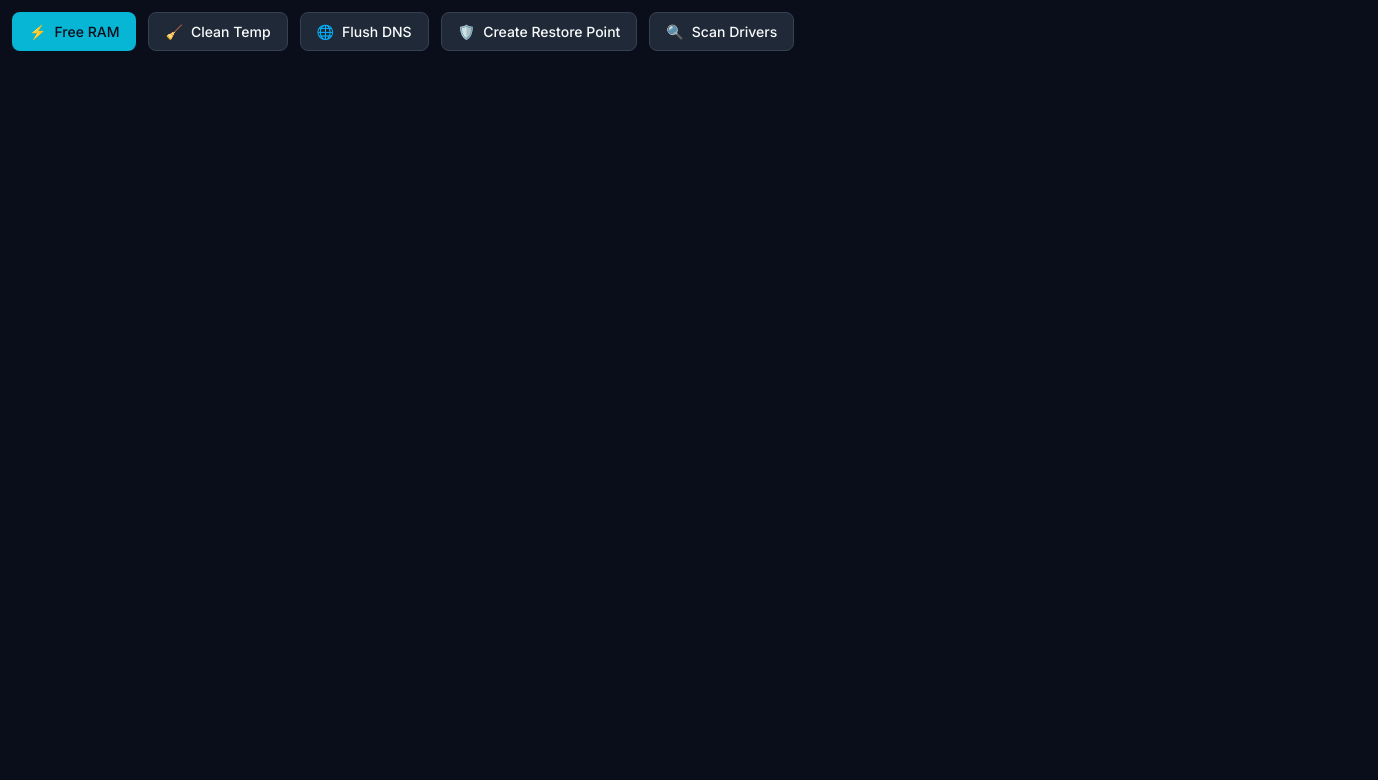
Test: QuickFixBar (Fase 3.1-3.5) › Flush DNS runs in one click and surfaces the verified result
Click the button with test id "quickfix-flush-dns" at [364, 32], box [300,12,429,51]
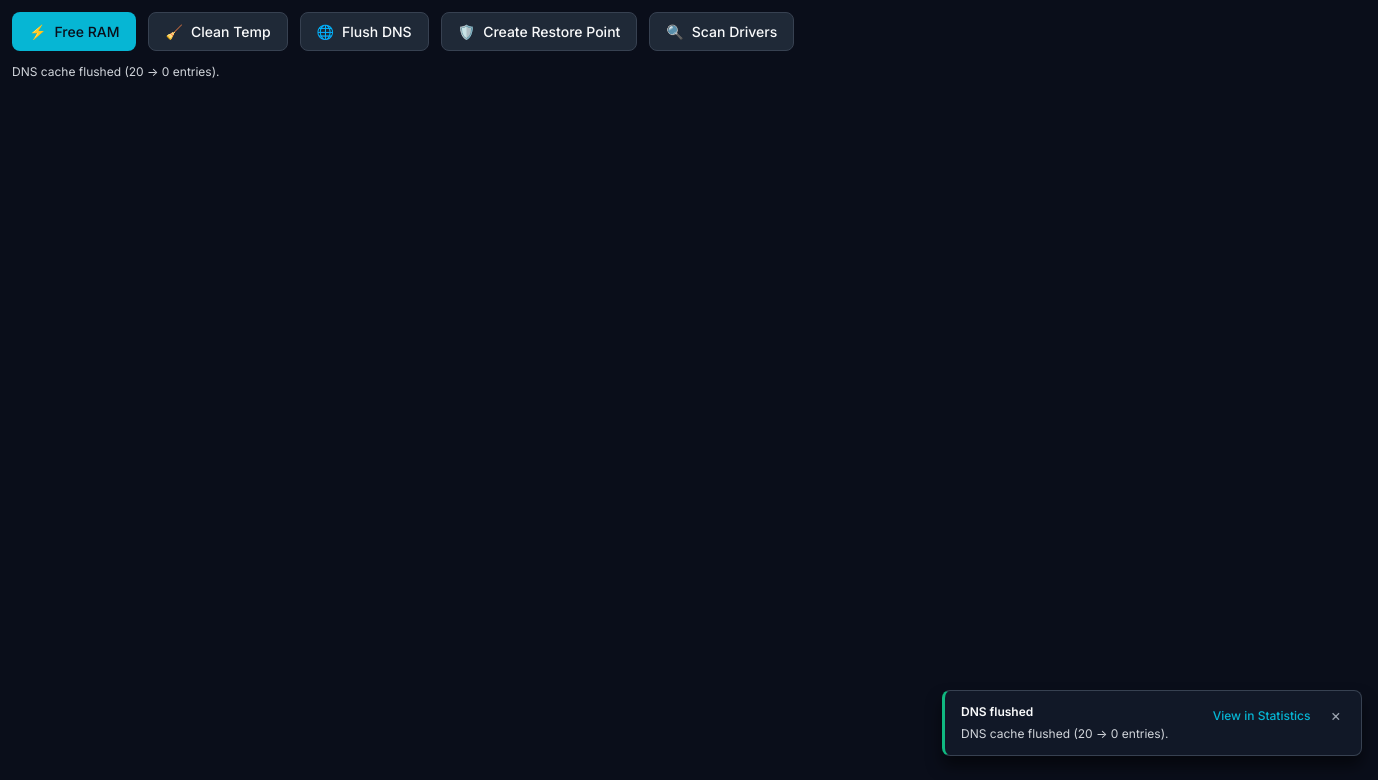
Expected: the element with test id "toast" is shown, [942,690,1362,756]
Expected: the text "DNS cache flushed (20 → 0 entries)." is shown, [961,725,1197,743]
